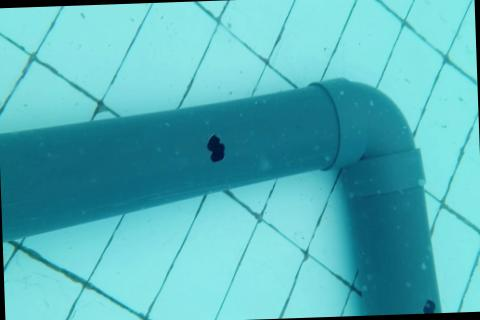kebocoran: (207, 133, 226, 165), (421, 297, 436, 313)
